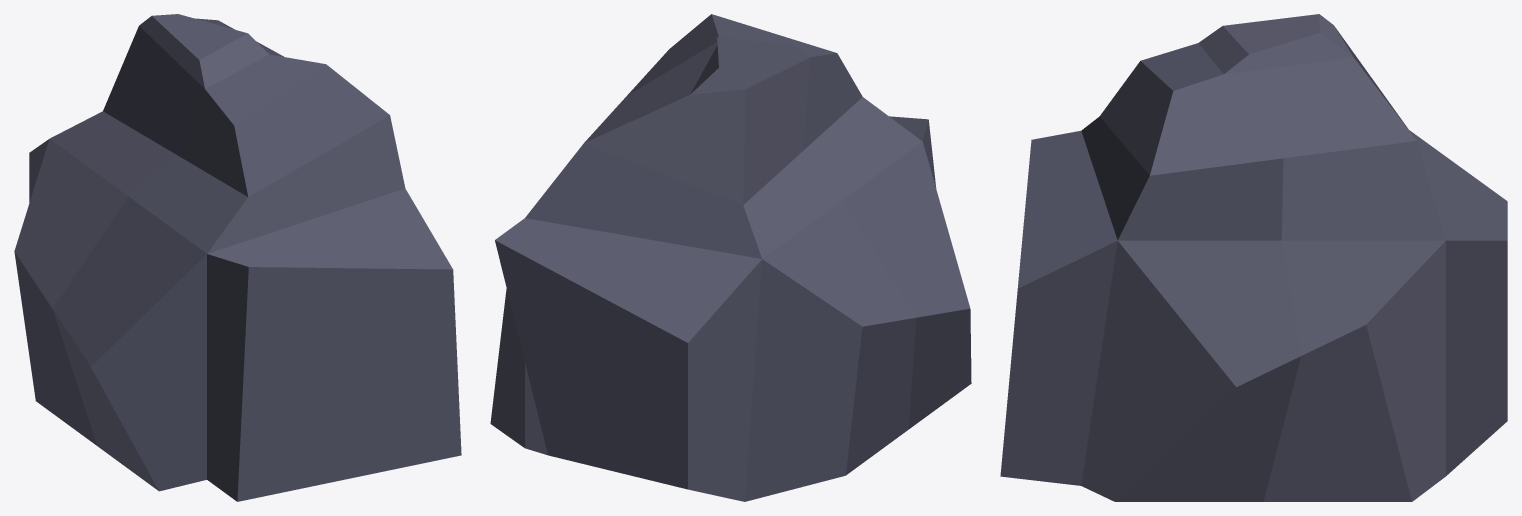
File: Rock6.fbx
3 views of the same model, side by side, from view 1: azimuth 30°, elevation 25°; view 2: azimuth 150°, elevation 25°; view 3: azimuth 270°, elevation 25° (orthographic). The views are drawn at different scales.
Visible parts, largest first — view 1: Cube.369; view 2: Cube.369; view 3: Cube.369.
Boxes of the visible parts, x1,y1,x2,y2 form: Cube.369: [14, 14, 461, 501]; Cube.369: [490, 14, 971, 501]; Cube.369: [1000, 14, 1507, 501].
Bounding box in the file's own units: 2259 × 2111 × 2536.
